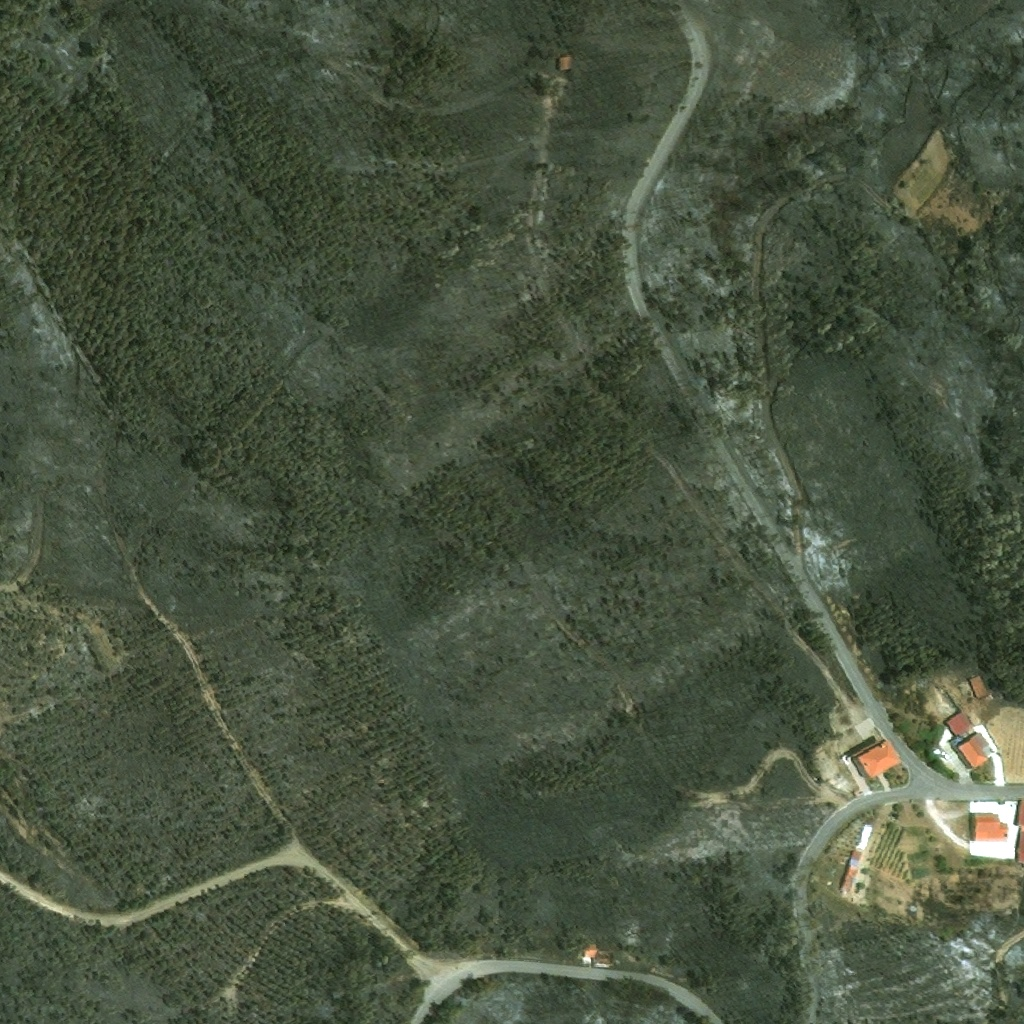0 no-damage: (850, 737, 903, 782), (952, 731, 995, 770), (969, 812, 1008, 841), (942, 708, 973, 735), (967, 673, 991, 700), (557, 53, 574, 71), (584, 941, 601, 957)
2 major-damage: (594, 950, 617, 966)
4 un-classified: (1013, 798, 1023, 863)
